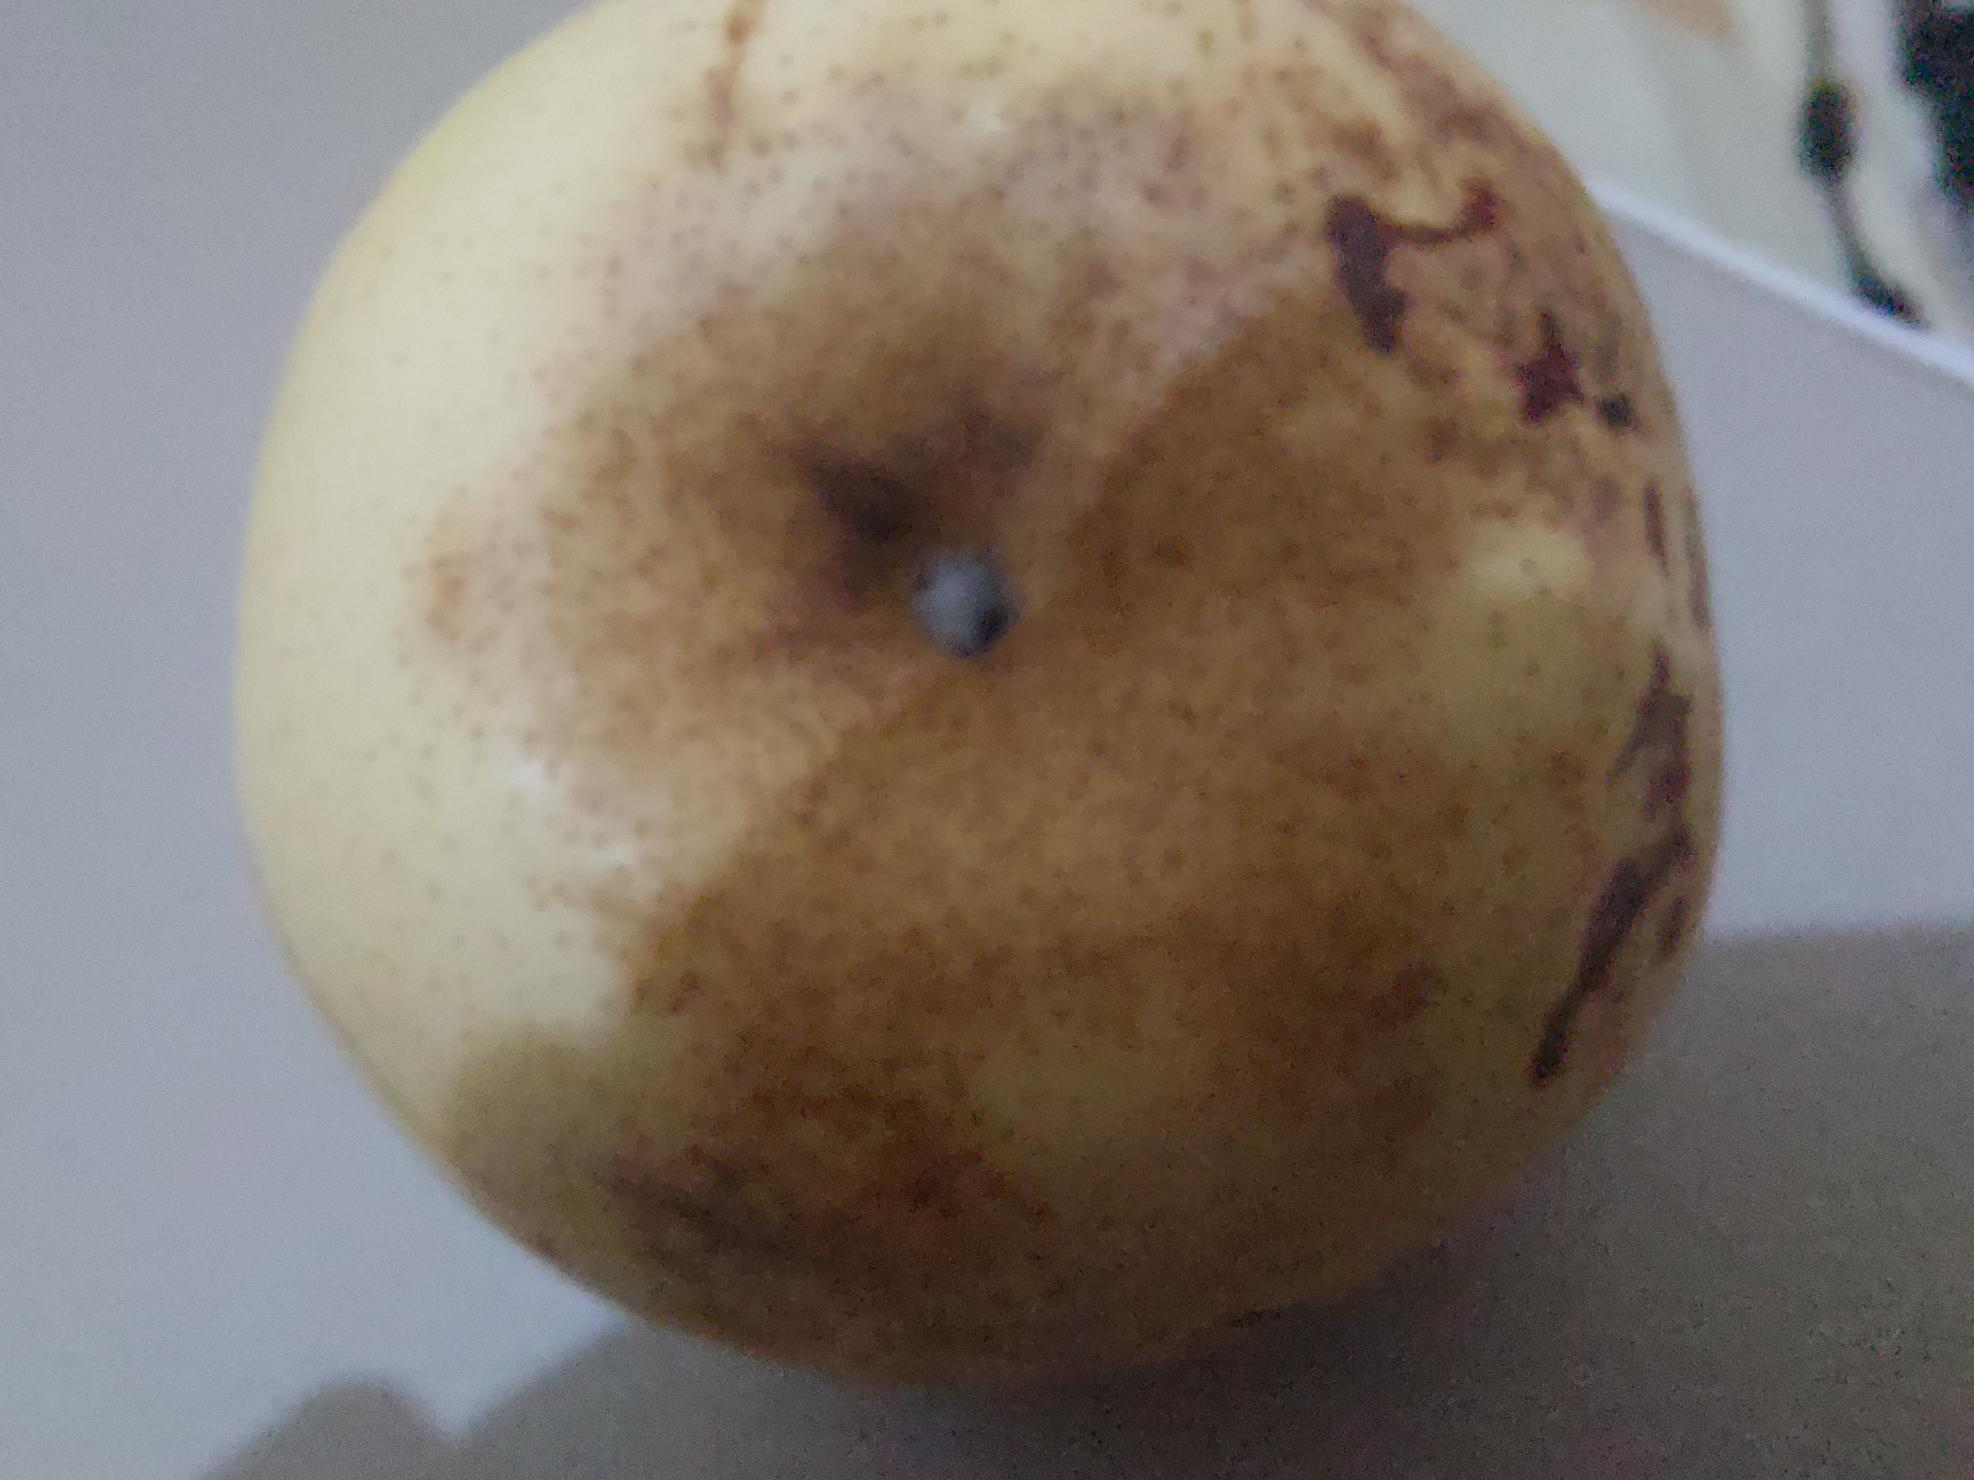Bad Pear: (213, 0, 1718, 1356)
